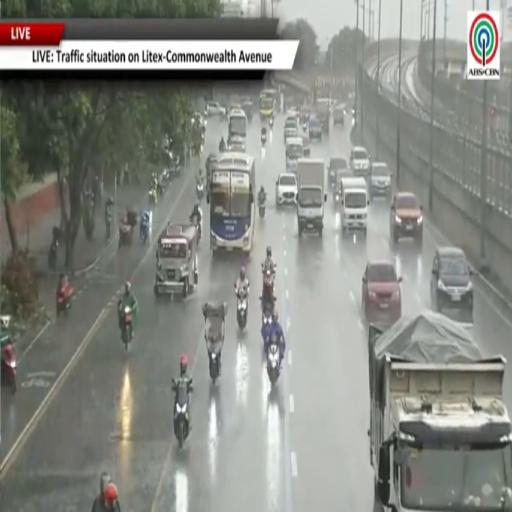bus: (207, 153, 255, 252), (227, 109, 248, 152), (259, 89, 277, 120)
car: (430, 247, 473, 323), (362, 261, 401, 324), (390, 192, 423, 245), (369, 163, 392, 200), (333, 168, 354, 207), (276, 173, 297, 205), (349, 147, 370, 177), (327, 157, 348, 186), (284, 117, 298, 143), (308, 115, 322, 140), (206, 102, 226, 117), (192, 112, 206, 130), (287, 108, 300, 127), (333, 104, 344, 125), (242, 100, 253, 121), (303, 134, 310, 157), (230, 103, 242, 113)
jeepney: (155, 224, 198, 297)
motorcycle: (172, 379, 191, 449), (0, 316, 16, 392), (56, 281, 73, 316), (267, 341, 280, 386), (262, 302, 273, 350), (121, 307, 133, 350), (262, 264, 275, 297), (237, 292, 247, 329), (209, 351, 220, 383), (119, 222, 133, 247), (190, 216, 202, 244), (48, 238, 58, 271), (105, 204, 112, 241), (140, 216, 149, 244), (258, 192, 266, 219), (149, 187, 157, 206), (197, 181, 204, 202), (259, 203, 265, 219), (261, 128, 266, 146), (270, 118, 273, 129)
tricycle: (202, 302, 227, 383), (119, 221, 133, 247)
truck: (369, 312, 511, 511), (297, 158, 326, 236)
